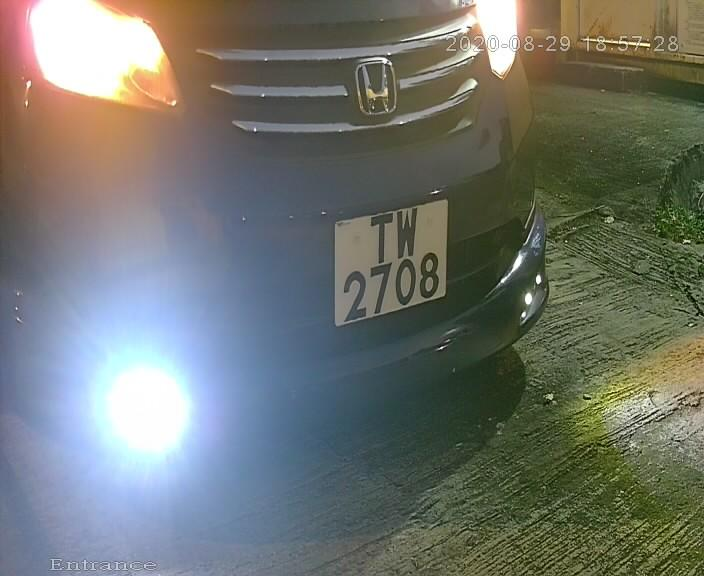License Plate: (327, 188, 456, 340)
